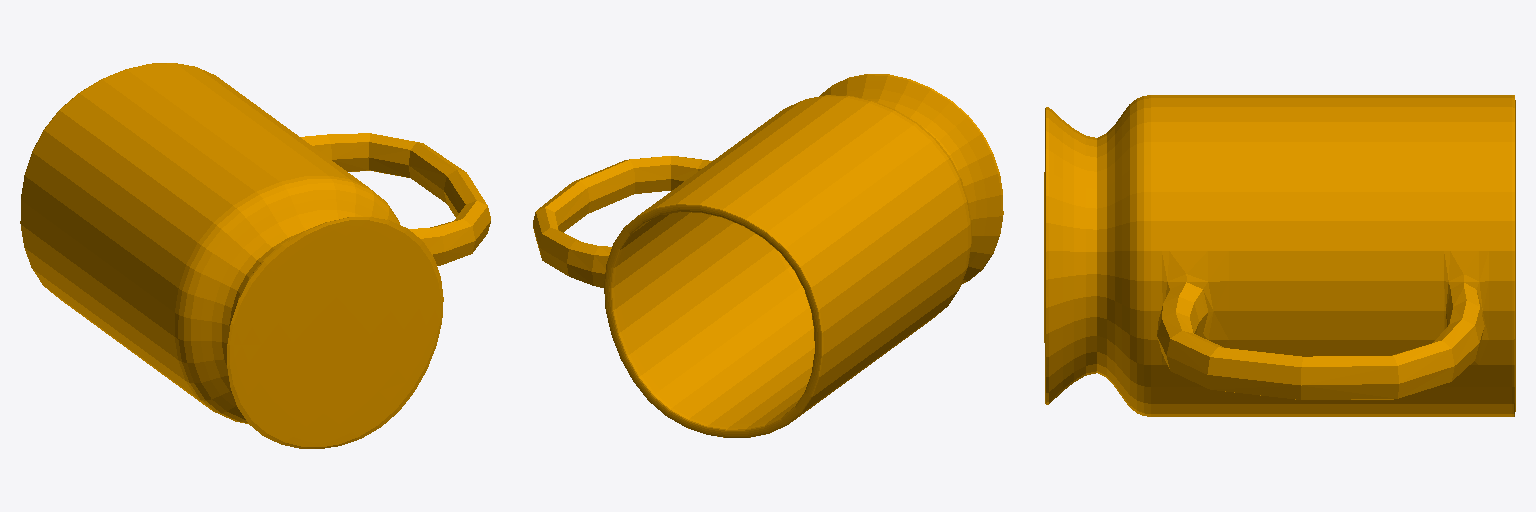
robot.urdf — 129:
<?xml version="1.0" ?>
<robot name="129">
  <link name="body">
    <visual>
      <geometry>
        <mesh filename="../shapes/129.obj"/>
      </geometry>
    </visual>
    <collision>
      <geometry>
        <mesh filename="../shapes/129.obj"/>
      </geometry>
    </collision>
  </link>
</robot>

--- Render facts (derived) ---
3 views of the same robot in one strip: view 1: azimuth 30°, elevation 25°; view 2: azimuth 150°, elevation 25°; view 3: azimuth 270°, elevation 25° (orthographic).
Robot: 129 — 1 links, 0 joints (none); root link body; default pose: every joint at zero.
Visible links, largest first — view 1: body; view 2: body; view 3: body.
Link boxes in pixels (x1,y1,x2,y2): body: (20, 63, 490, 448); body: (533, 74, 1003, 437); body: (1044, 95, 1515, 416).
Bounding box of the posed robot: 3.75 × 3.62 × 2.42 m (x, y, z).
1 mesh visuals loaded from 1 distinct referenced files (1 OBJ).